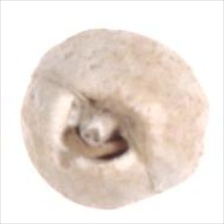L3: (60, 84, 146, 167)
L4: (20, 27, 209, 210)
